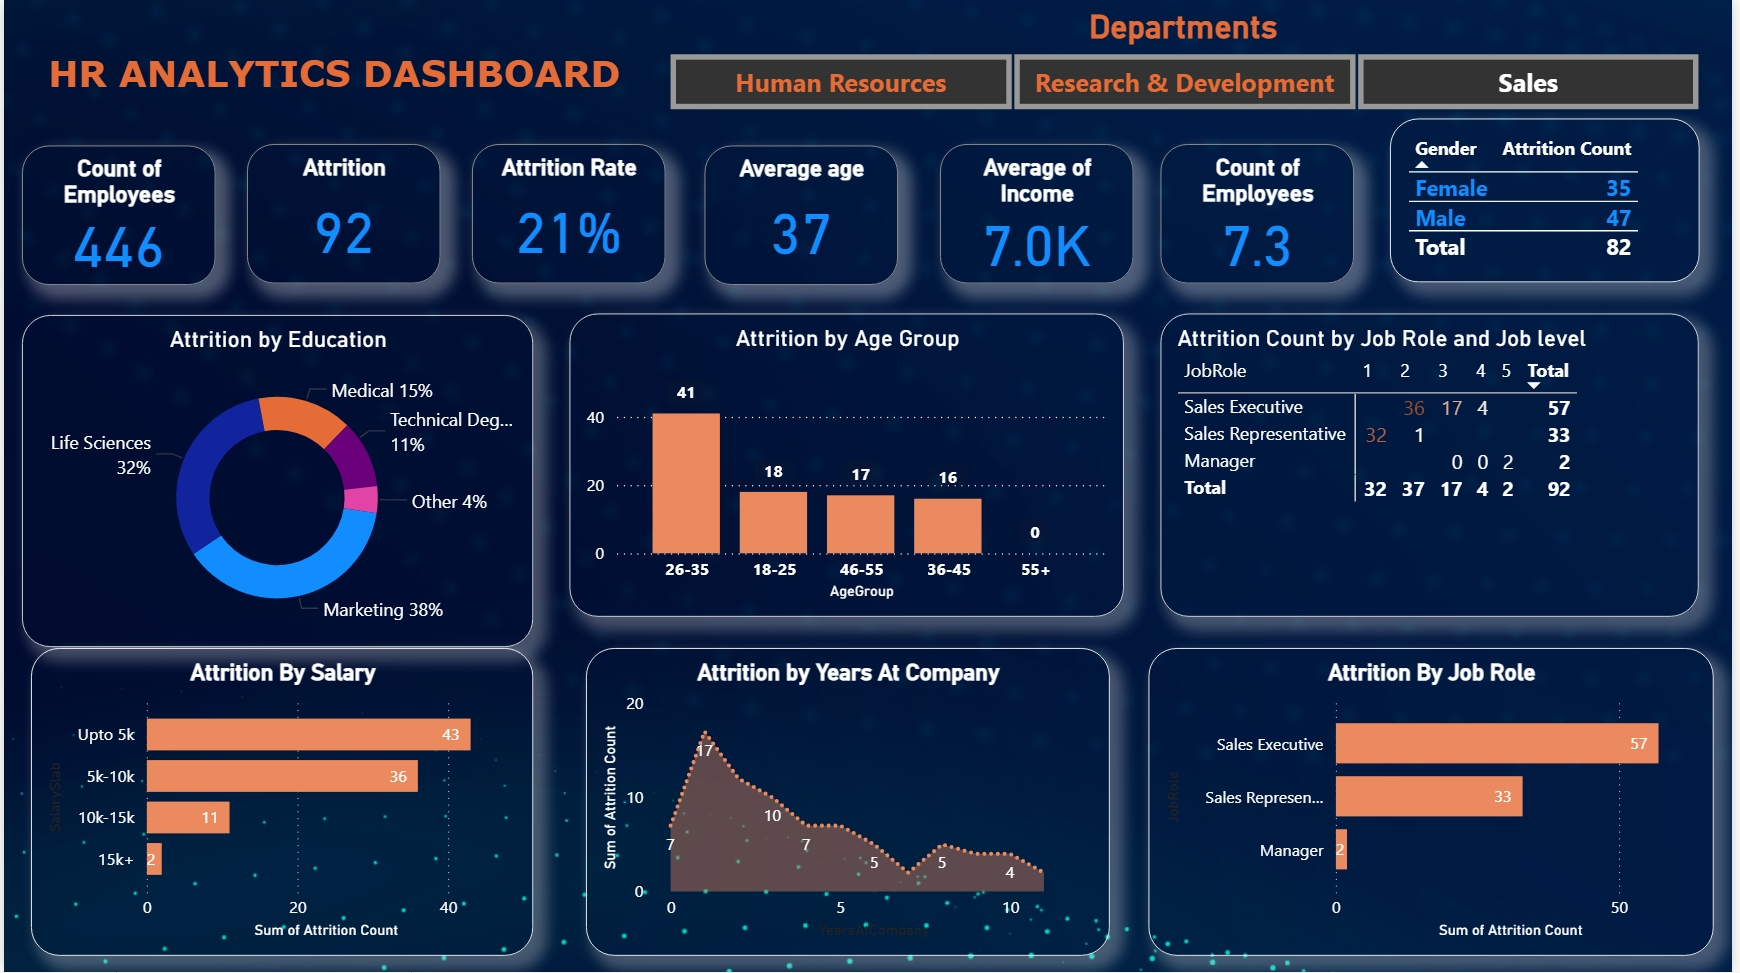

The dashboard page shown, as its layout file describes it:
{"tool":"powerbi","page":{"name":"HR Analytics Dashboard","canvas":[1280,720],"ordinal":0},"visuals":[{"type":"card","title":"Count of Employees","fields":{"Values":["CountNonNull(HR_Analytics.EmpID)"]},"box":[13.8,107.7,143.1,103.1],"z":0},{"type":"card","title":"Average age","fields":{"Values":["Avg(HR_Analytics.Age)"]},"box":[518.5,107.7,143.1,103.1],"z":1000},{"type":"card","title":"Attrition Rate","fields":{"Values":["HR_Analytics.AttritionRate"]},"box":[346.2,106.2,143.1,103.1],"z":2000},{"type":"card","title":"Attrition","fields":{"Values":["Sum(HR_Analytics.Attrition Count)"]},"box":[180,106.2,143.1,103.1],"z":3000},{"type":"card","title":"Count of Employees","fields":{"Values":["Avg(HR_Analytics.YearsAtCompany)"]},"box":[856.9,106.2,143.1,103.1],"z":4000},{"type":"card","title":"Average of Income","fields":{"Values":["Avg(HR_Analytics.MonthlyIncome)"]},"box":[693.8,106.2,143.1,103.1],"z":5000},{"type":"donutChart","title":"Attrition by Education","fields":{"Y":["Sum(HR_Analytics.Attrition Count)"],"Category":["HR_Analytics.EducationField"]},"box":[13.8,233.8,378.5,246.2],"z":6000},{"type":"columnChart","title":"Attrition by Age Group","fields":{"Y":["Sum(HR_Analytics.Attrition Count)"],"Category":["HR_Analytics.AgeGroup"]},"box":[418.5,232.3,410.8,224.6],"z":7000},{"type":"pivotTable","title":"Attrition Count by Job Role and Job level","fields":{"Rows":["HR_Analytics.JobRole"],"Values":["Sum(HR_Analytics.Attrition Count)"],"Columns":["HR_Analytics.JobLevel"]},"box":[856.9,232.3,398.5,224.6],"z":8000},{"type":"barChart","title":"Attrition By Salary ","fields":{"Category":["HR_Analytics.SalarySlab"],"Y":["Sum(HR_Analytics.Attrition Count)"]},"box":[20,480,372.3,227.7],"z":9000},{"type":"barChart","title":"Attrition By Job Role","fields":{"Y":["Sum(HR_Analytics.Attrition Count)"],"Category":["HR_Analytics.JobRole"]},"box":[847.7,480,418.5,227.7],"z":10000},{"type":"stackedAreaChart","title":"Attrition by Years At Company","fields":{"Category":["HR_Analytics.YearsAtCompany"],"Y":["Sum(HR_Analytics.Attrition Count)"]},"box":[430.8,480,387.7,227.7],"z":11000},{"type":"tableEx","title":"Attrition by Year","fields":{"Values":["HR_Analytics.Gender","Sum(HR_Analytics.Attrition Count)"]},"box":[1026.2,87.7,229.2,121.5],"z":12000},{"type":"slicer","title":"Departments","fields":{"Values":["HR_Analytics.Department"]},"box":[467.9,6.1,811.6,81.8],"z":13000},{"type":"textbox","box":[27.7,32.3,447.7,55.4],"z":14000}]}

Visuals, with their boxes in screenshot pixels (x1, y1, x2, y2), scaled from the page's 1280x720 canvas onto the 1740x973 screenshot:
"Count of Employees" card: [19, 146, 213, 285]
"Average age" card: [705, 146, 899, 285]
"Attrition Rate" card: [471, 144, 665, 283]
"Attrition" card: [245, 144, 439, 283]
"Count of Employees" card: [1165, 144, 1359, 283]
"Average of Income" card: [943, 144, 1138, 283]
"Attrition by Education" donutChart: [19, 316, 533, 649]
"Attrition by Age Group" columnChart: [569, 314, 1127, 617]
"Attrition Count by Job Role and Job level" pivotTable: [1165, 314, 1707, 617]
"Attrition By Salary " barChart: [27, 649, 533, 956]
"Attrition By Job Role" barChart: [1152, 649, 1721, 956]
"Attrition by Years At Company" stackedAreaChart: [586, 649, 1113, 956]
"Attrition by Year" tableEx: [1395, 119, 1707, 283]
"Departments" slicer: [636, 8, 1739, 119]
textbox: [38, 44, 646, 119]
